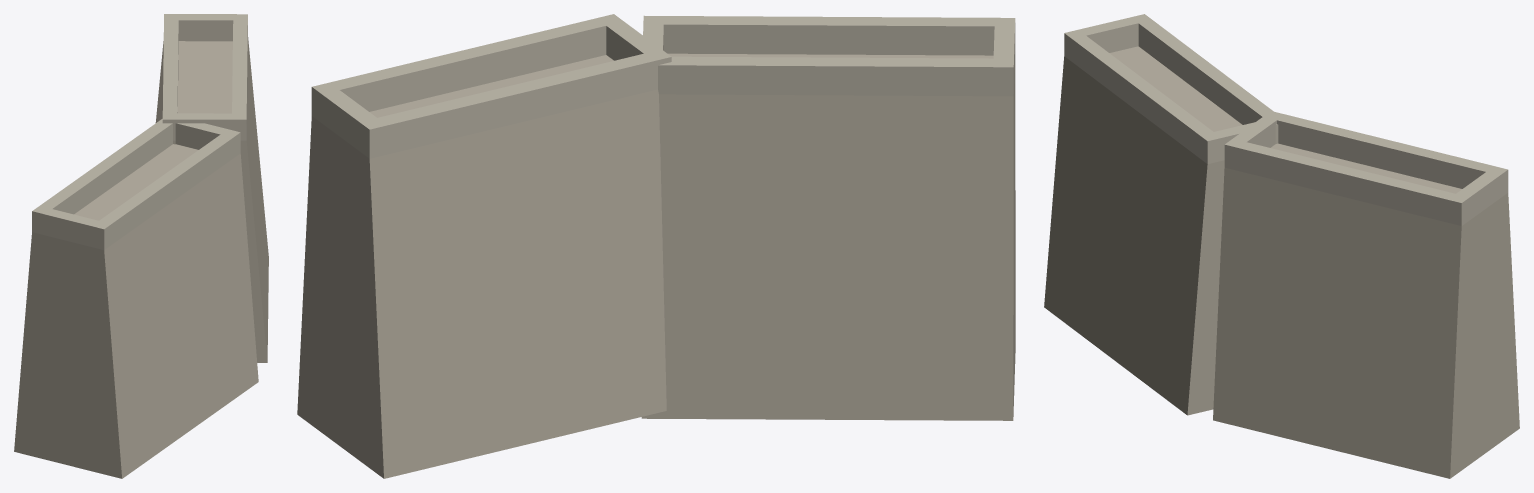
File: bormla_63_33_collision.glb
3 renders of one model, left to right at view 1: azimuth 30°, elevation 25°; view 2: azimuth 150°, elevation 25°; view 3: azimuth 270°, elevation 25°, orthographic. The views are drawn at different scales.
Visible parts, largest first — view 1: geometry_0; view 2: geometry_0; view 3: geometry_0.
Part boxes in pixels (x1,y1,x2,y2): geometry_0: (14,14,268,478); geometry_0: (297,14,1015,478); geometry_0: (1044,14,1519,478).
Bounding box in the file's own units: 21.17 × 13.08 × 20.63.
